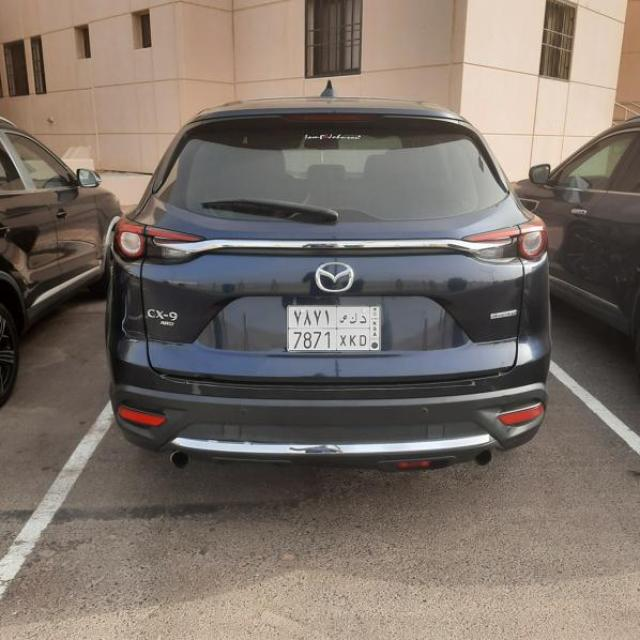license_plate: (287, 304, 383, 353)
